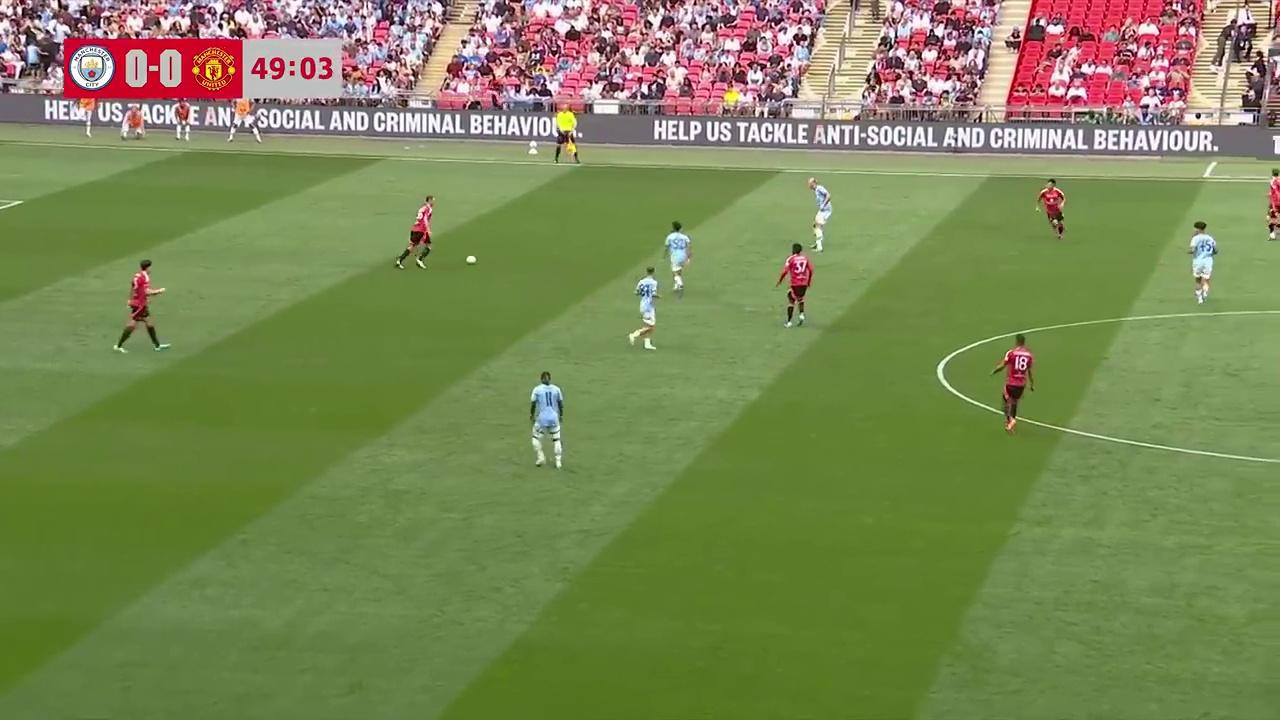ball: (463, 250, 478, 265)
player: (112, 260, 168, 353), (990, 334, 1035, 433), (527, 370, 564, 469), (775, 243, 813, 327), (395, 197, 433, 270), (628, 265, 660, 350), (1189, 221, 1218, 303), (664, 221, 691, 298), (1036, 179, 1065, 240), (808, 178, 832, 251), (1265, 169, 1280, 240)
referee: (553, 108, 581, 164)
